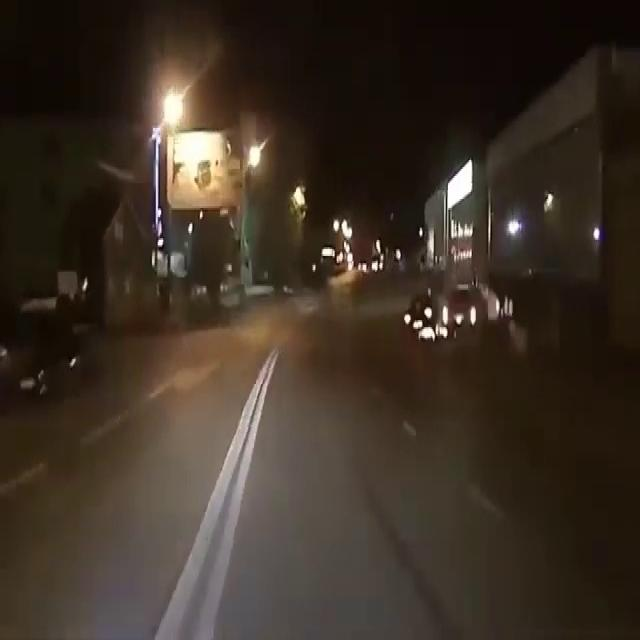moderate: (399, 277, 497, 349)
